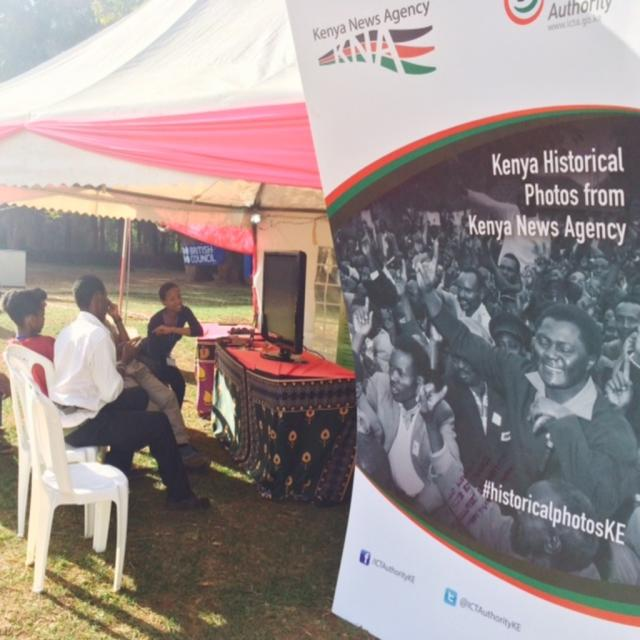Chair: (1, 342, 116, 544)
